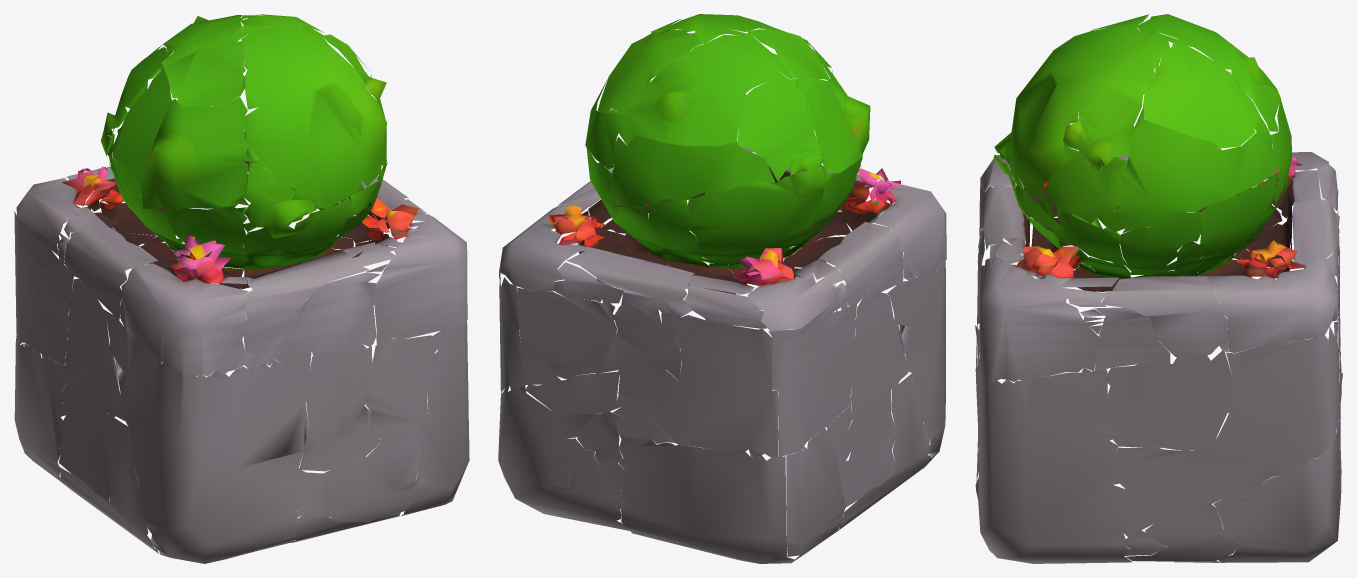
File: blumenkuebel_1.glb
The picture shows the model from 3 angles, left to right: view 1: azimuth 30°, elevation 25°; view 2: azimuth 150°, elevation 25°; view 3: azimuth 270°, elevation 25°; orthographic projection. The views are drawn at different scales.
Parts seen in each view (by area): view 1: tripo_node_2c7dc238-ce2f-4e43-9d69-f523157762db; view 2: tripo_node_2c7dc238-ce2f-4e43-9d69-f523157762db; view 3: tripo_node_2c7dc238-ce2f-4e43-9d69-f523157762db.
Boxes of the visible parts, x1,y1,x2,y2 form: tripo_node_2c7dc238-ce2f-4e43-9d69-f523157762db: (14,14,469,563); tripo_node_2c7dc238-ce2f-4e43-9d69-f523157762db: (498,14,946,563); tripo_node_2c7dc238-ce2f-4e43-9d69-f523157762db: (975,14,1342,563).
Bounding box in the file's own units: 0.7074 × 1 × 0.71.
Materials: 1 (1 with a texture image).
